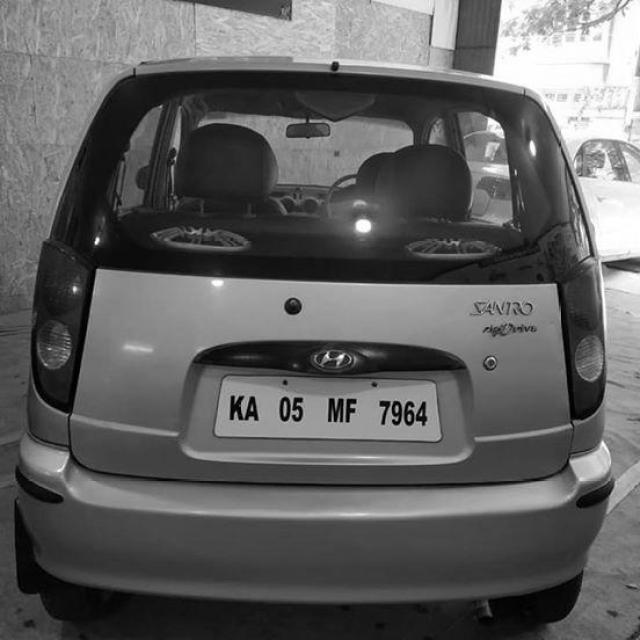car: (18, 43, 614, 629)
license-plate: (220, 368, 444, 448)
